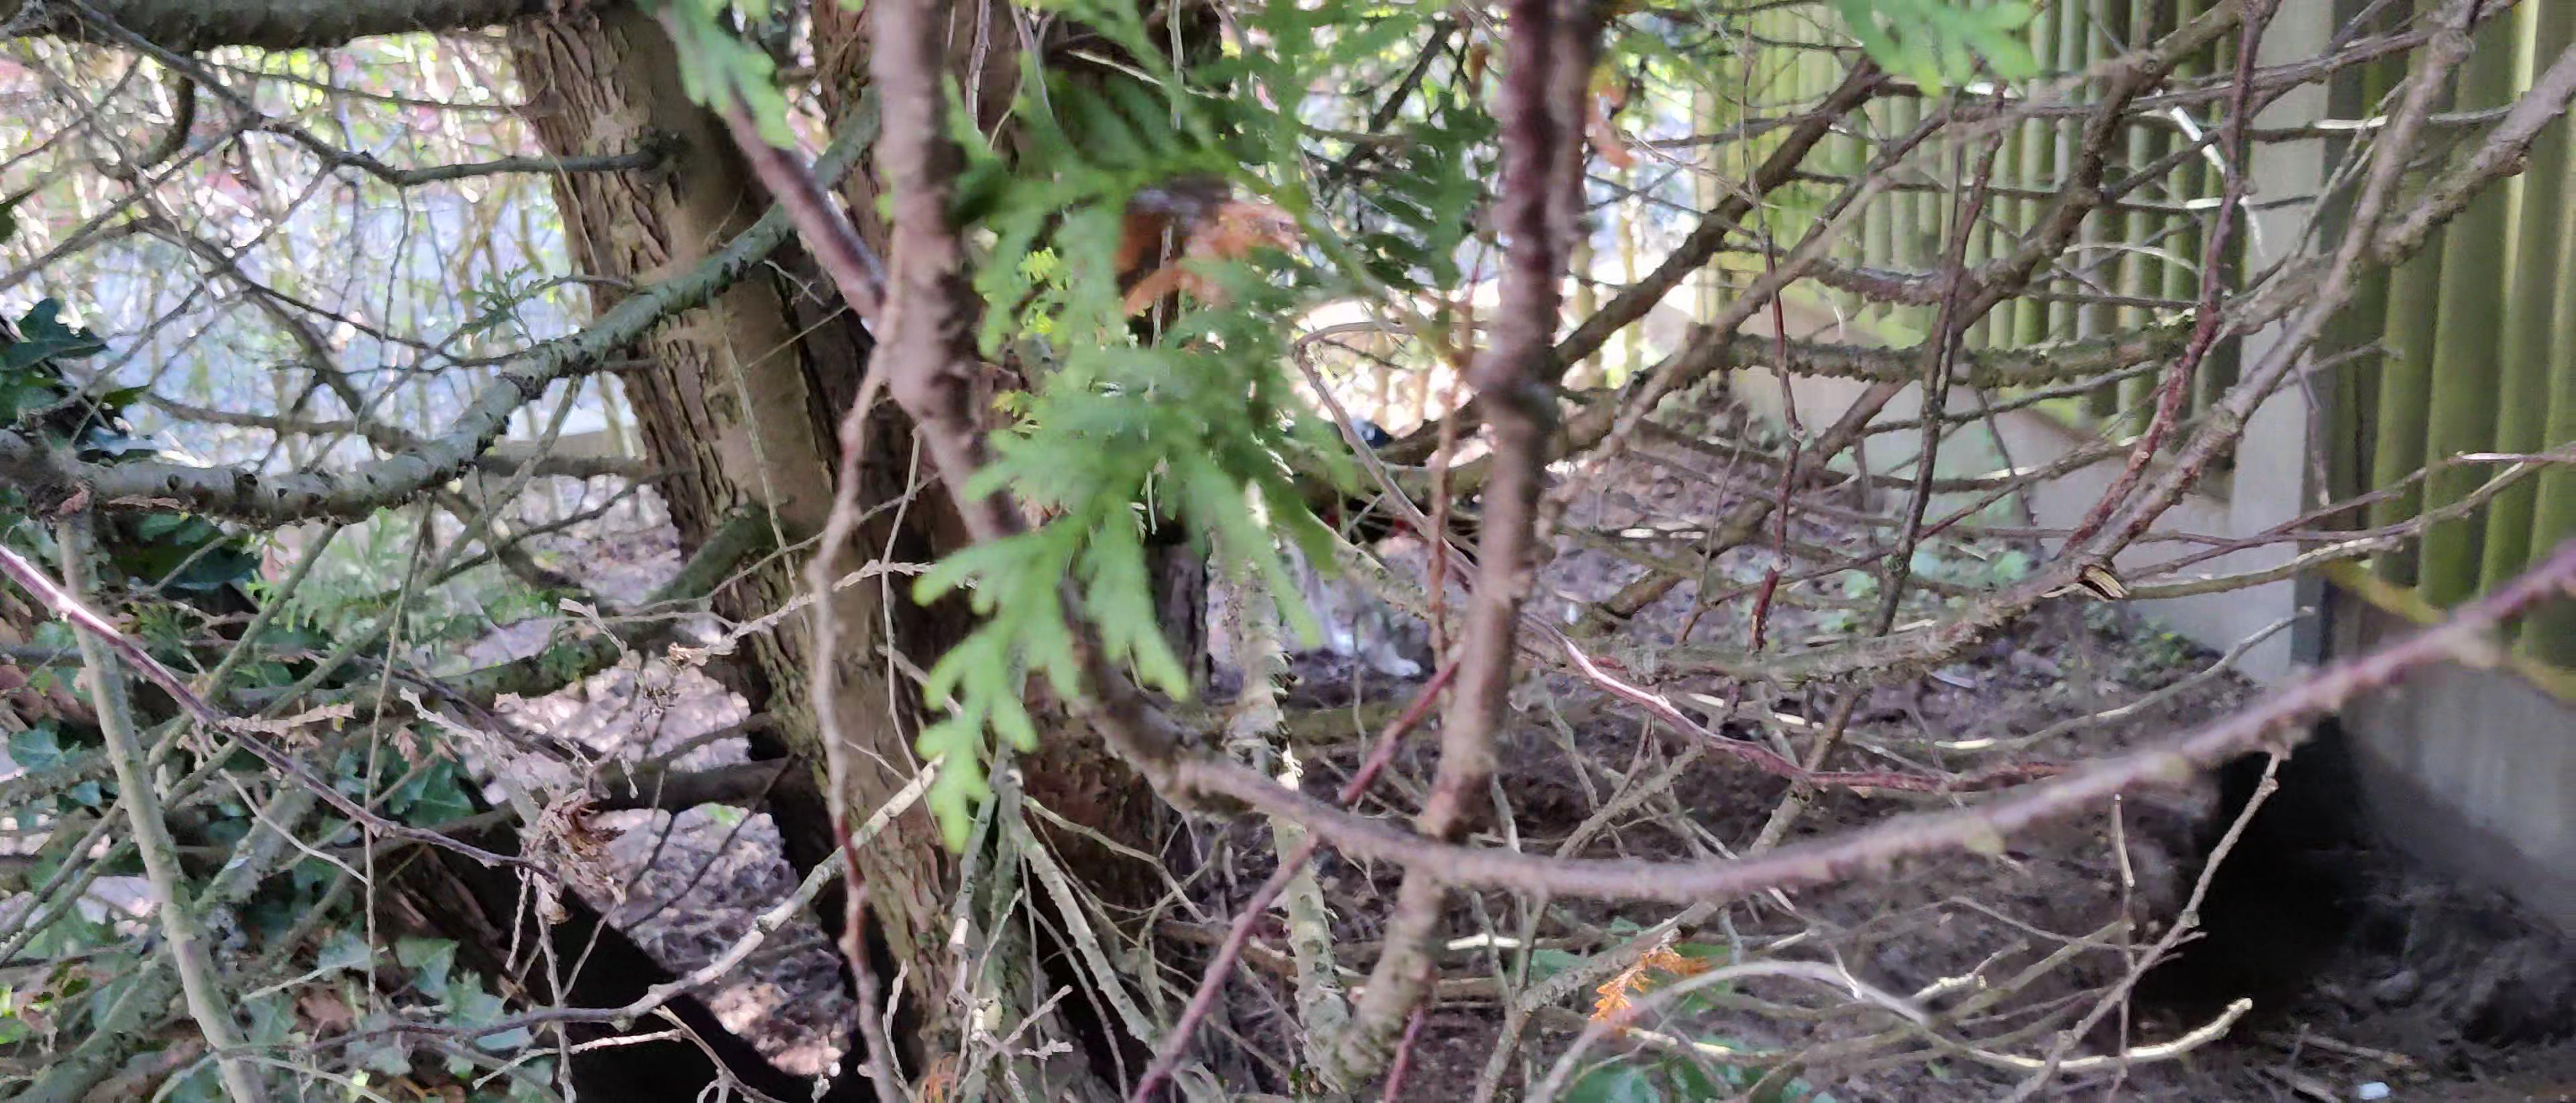Dog: (1226, 391, 1493, 687)
